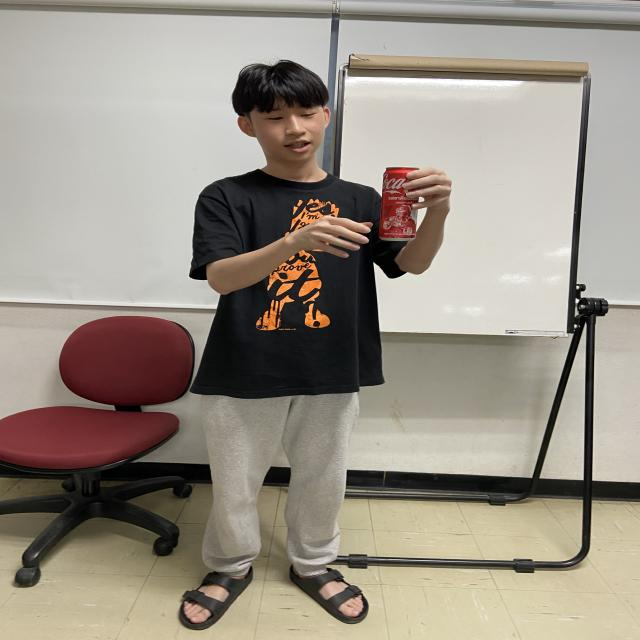can: (378, 165, 422, 242)
